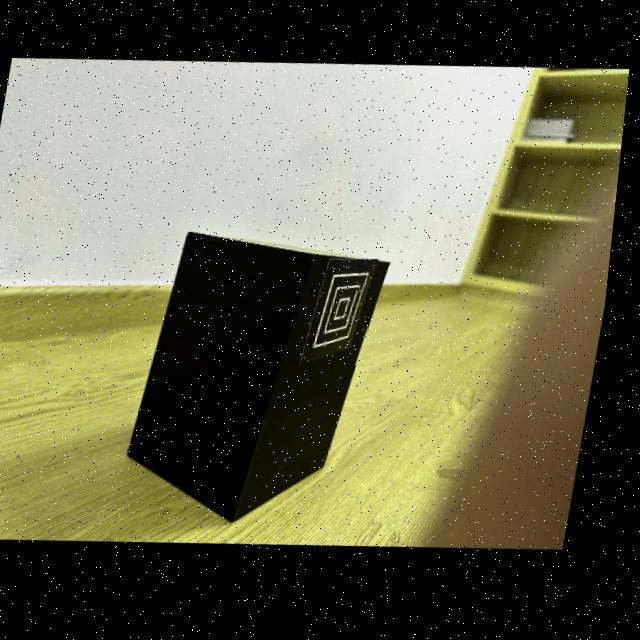BULLSEYE: (308, 263, 385, 368)
